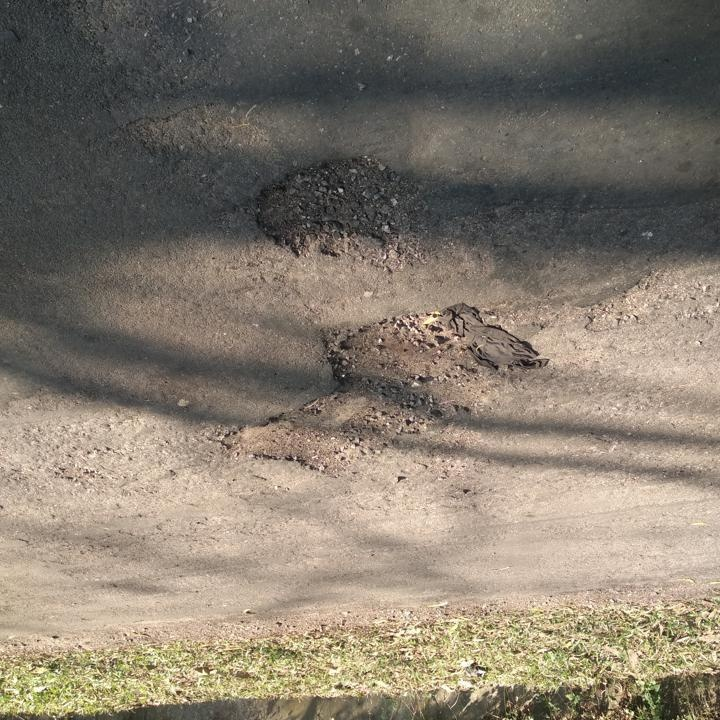pothole: (215, 308, 520, 483), (248, 153, 426, 265)
